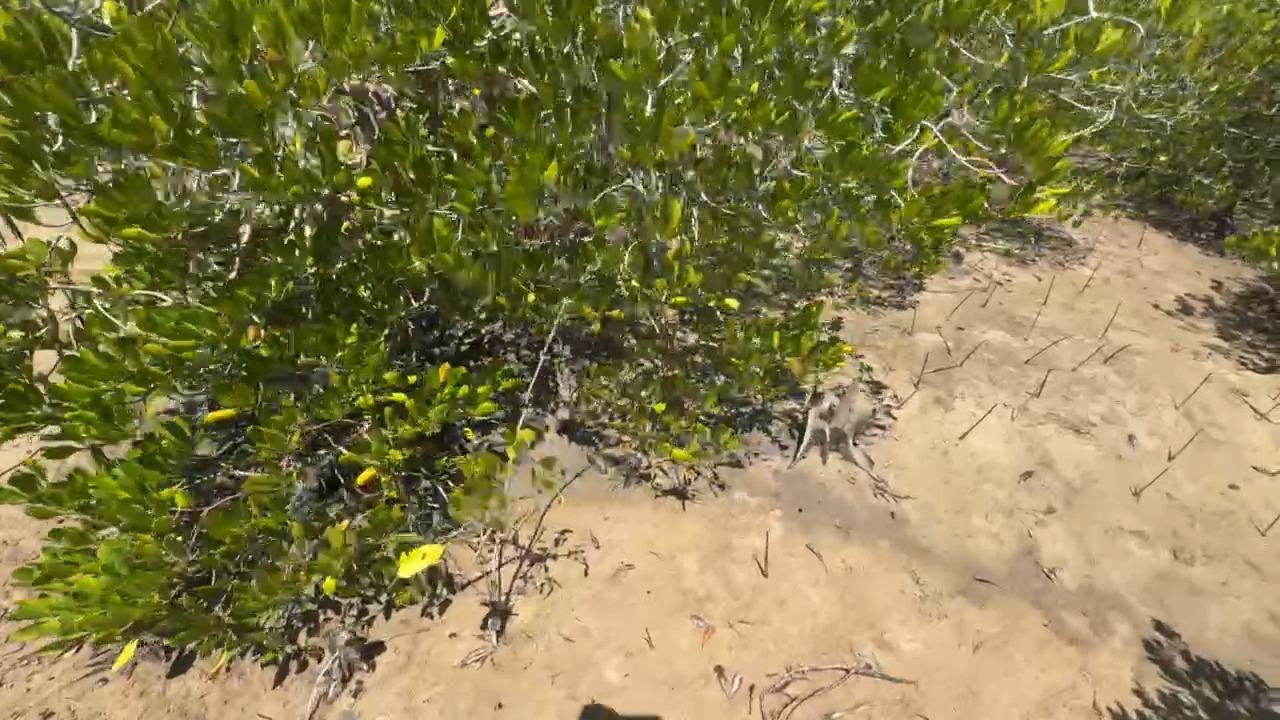Tree: (958, 403, 998, 439), (1176, 372, 1212, 409), (1024, 336, 1067, 365), (1135, 467, 1169, 495), (1170, 430, 1201, 460), (1071, 345, 1104, 372), (1079, 262, 1101, 294), (960, 340, 986, 366), (805, 544, 828, 573), (1102, 303, 1121, 337), (949, 292, 973, 317), (1103, 344, 1131, 364), (1034, 369, 1052, 398), (915, 352, 929, 388), (937, 328, 952, 357), (1257, 402, 1280, 420), (1043, 276, 1056, 306), (980, 285, 997, 307), (1263, 514, 1280, 536), (1037, 561, 1054, 582), (763, 530, 769, 578), (1137, 222, 1147, 249), (973, 577, 998, 587), (909, 303, 917, 332), (558, 633, 576, 643), (645, 627, 653, 647), (1271, 470, 1280, 476)
